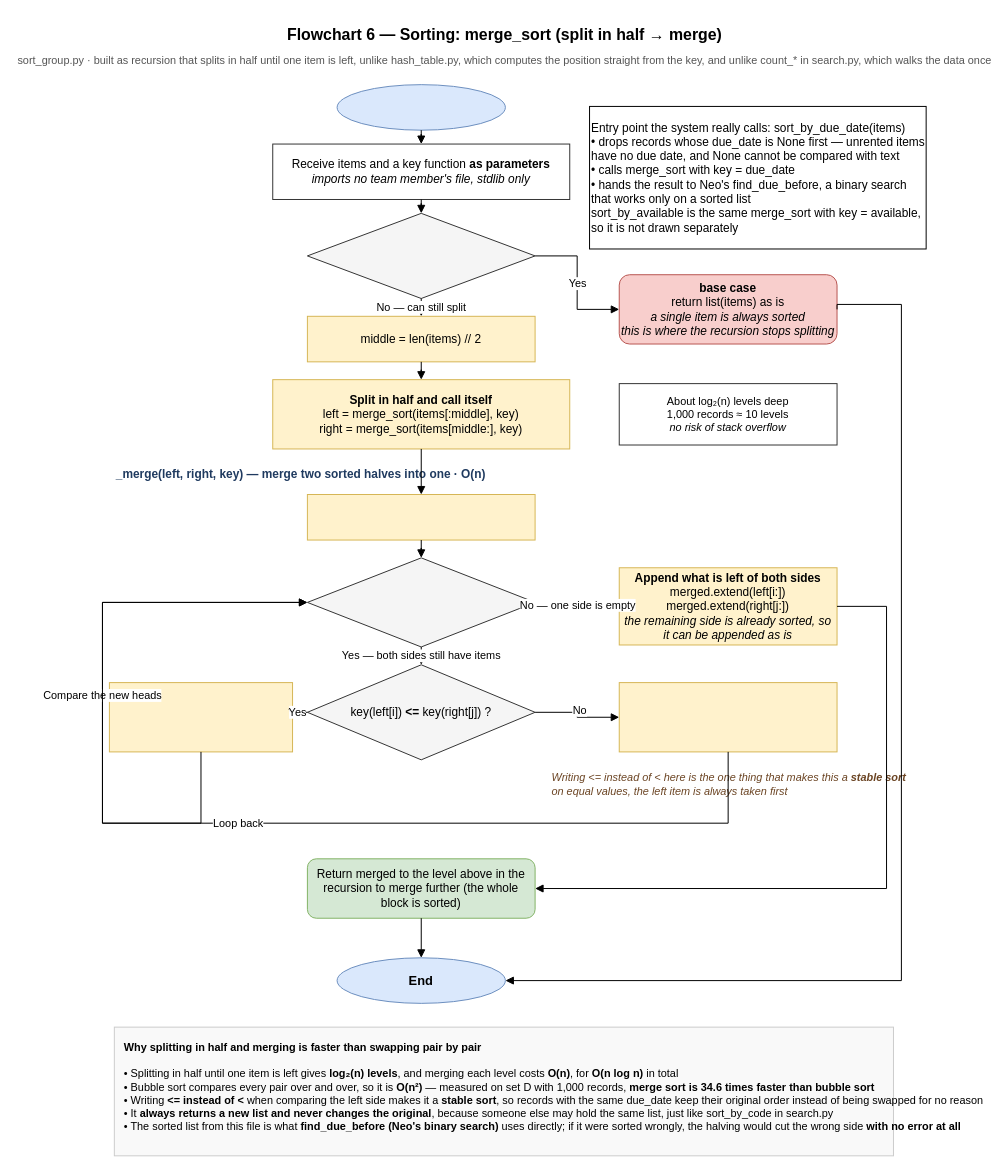
This 1008x1173 diagram has some shape labels left out. Each missing label, with the box of its shape:
i < len(left) and j < len(right) ?: (306, 557, 535, 647)
i=0 , j=0 , merged = []: (306, 494, 535, 540)
len(items) ≤ 1 ?: (306, 212, 535, 298)
Start: (336, 84, 505, 130)
Take from the left merged.append(left[i]) i += 1: (108, 682, 293, 752)
Take from the right merged.append(right[j]) j += 1: (618, 682, 837, 752)
